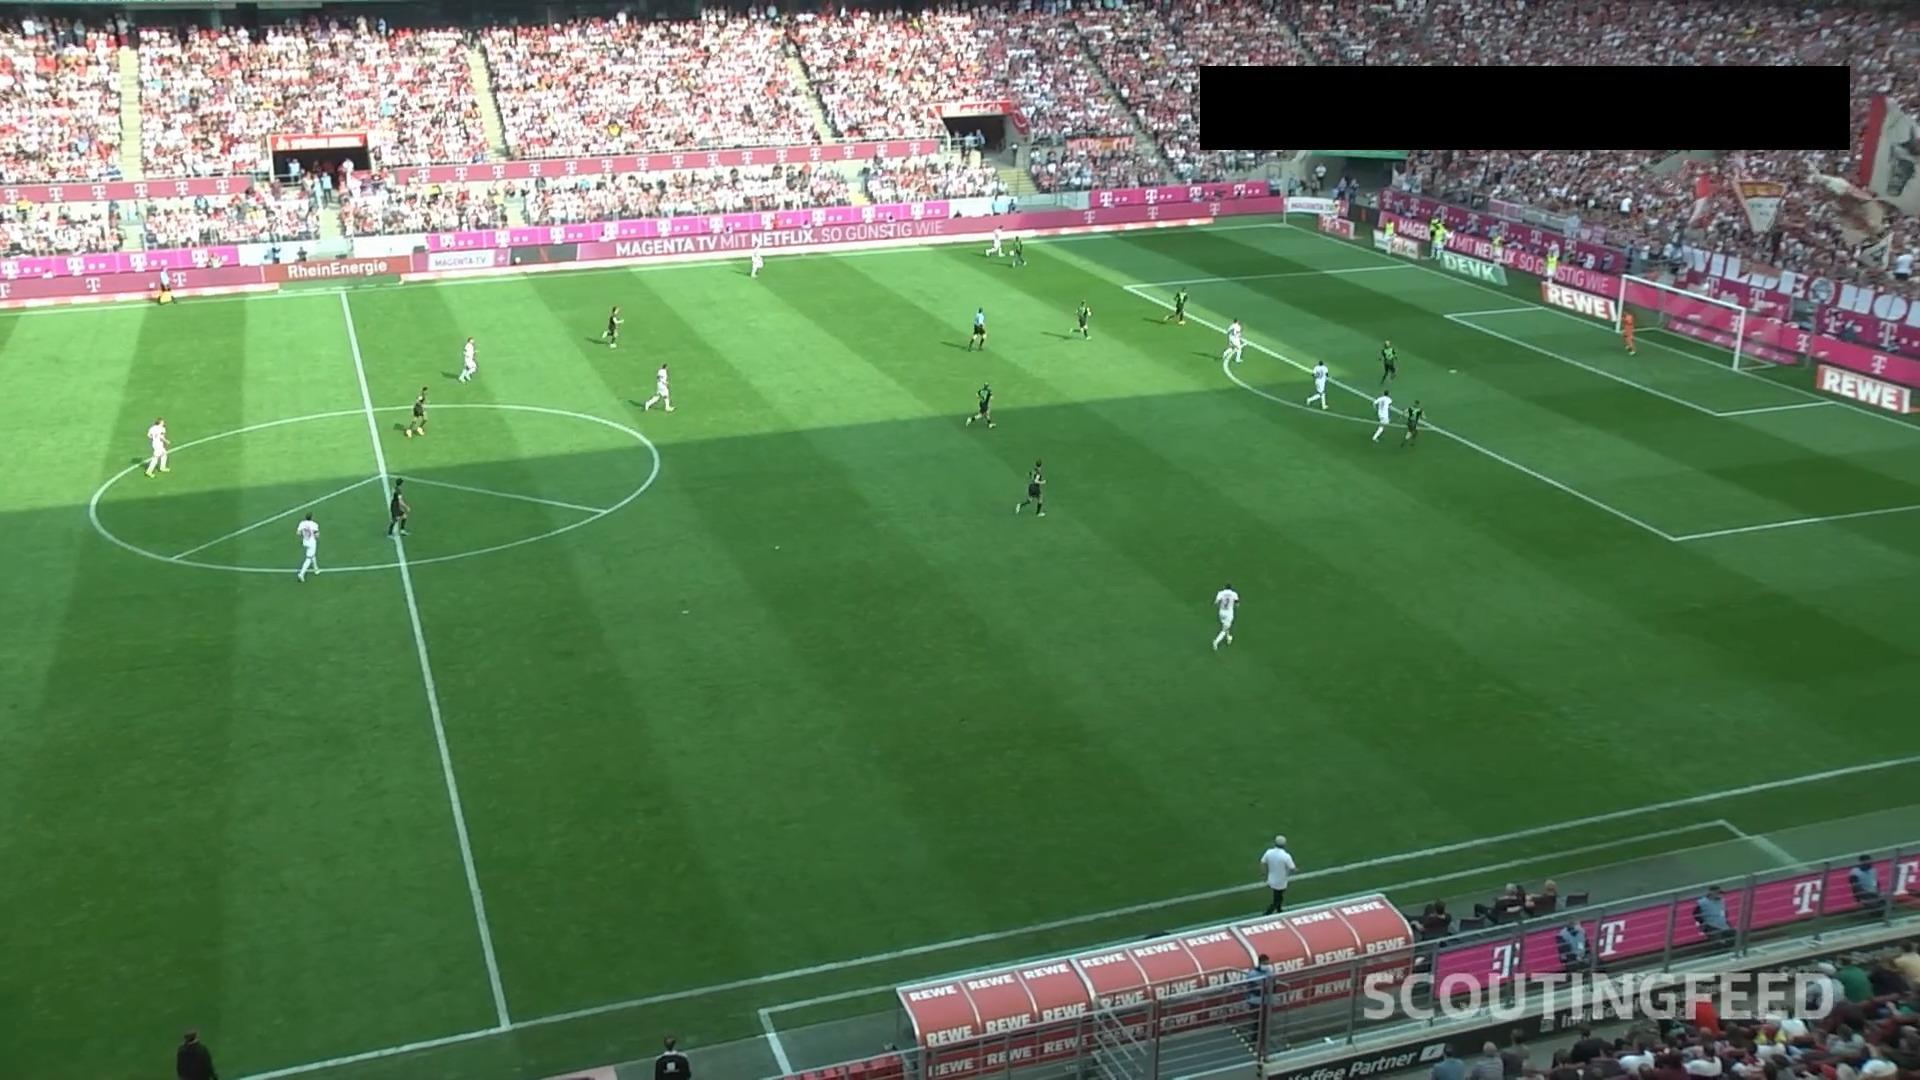ball: (1009, 249, 1015, 256)
